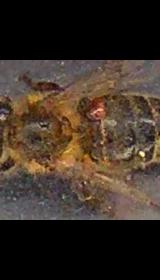varroa_mite: (82, 87, 116, 125)
